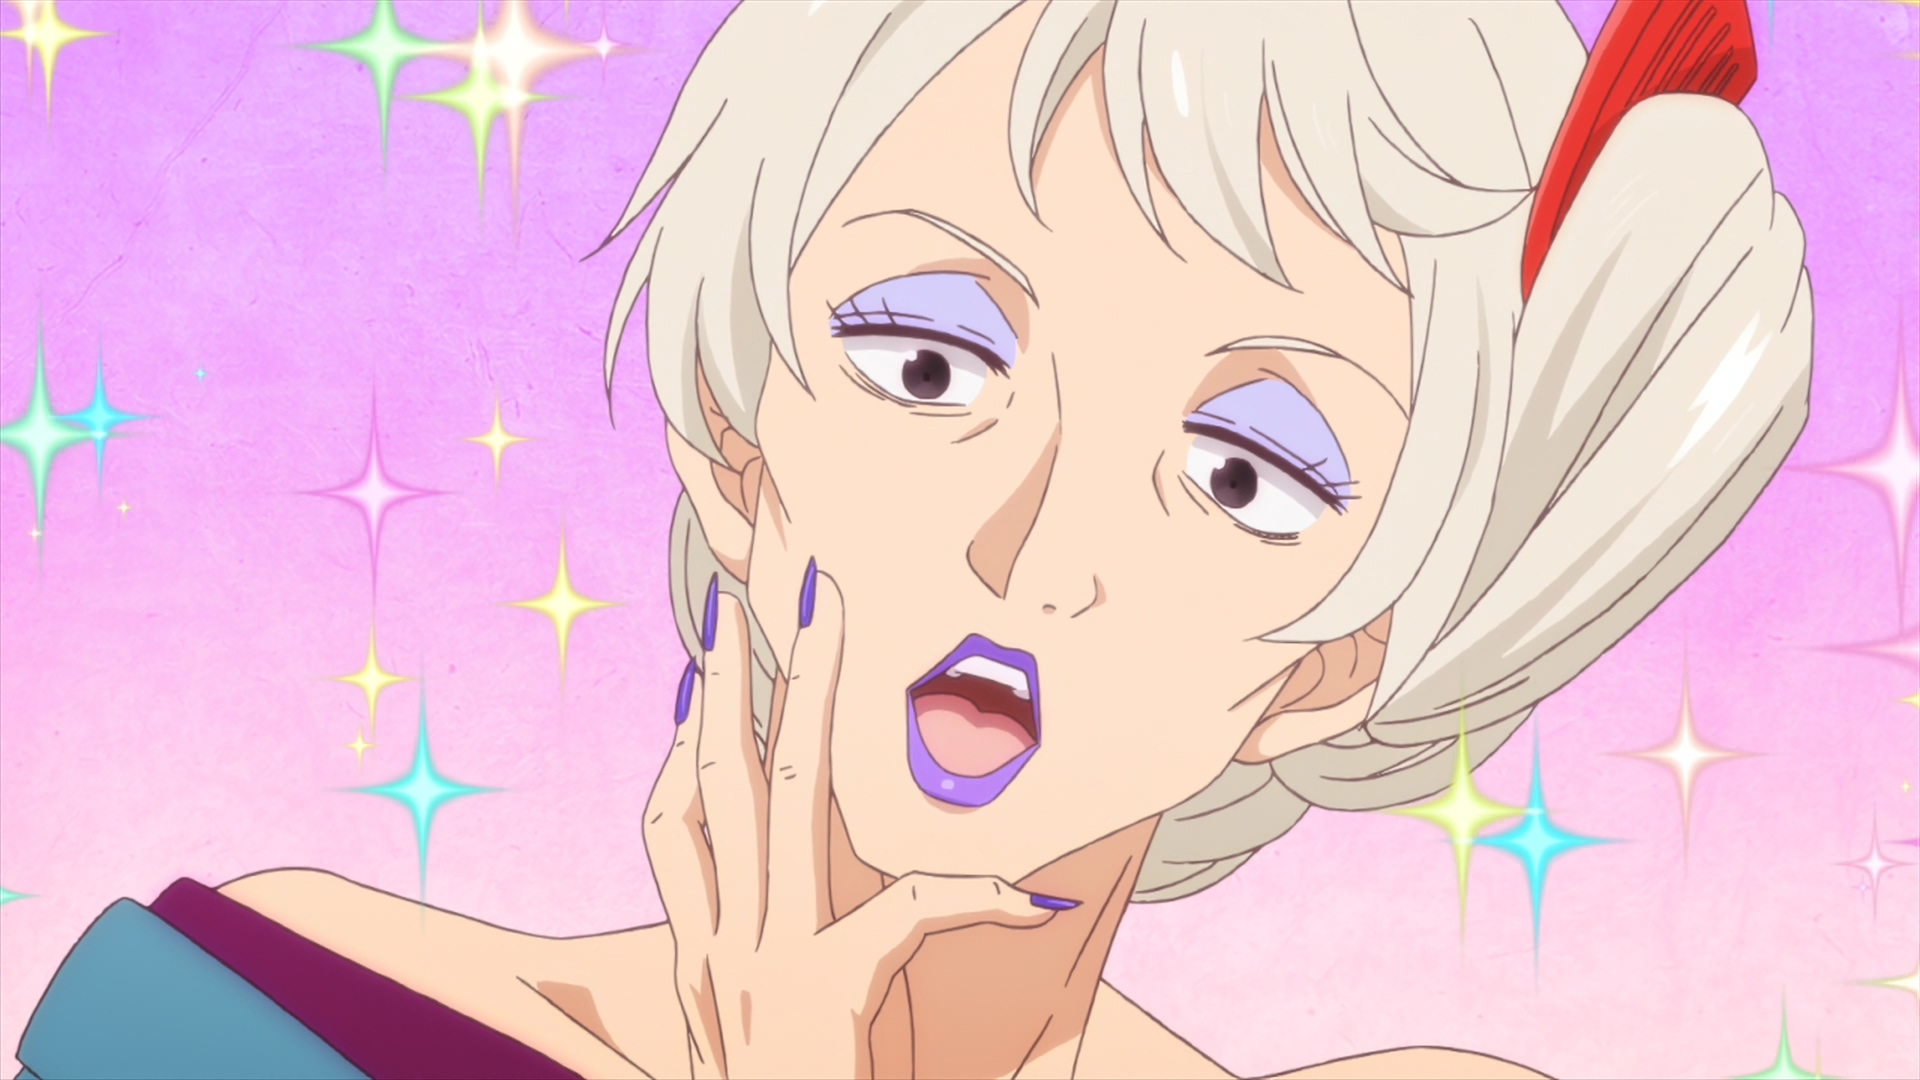其他: (16, 1, 1816, 1080)
